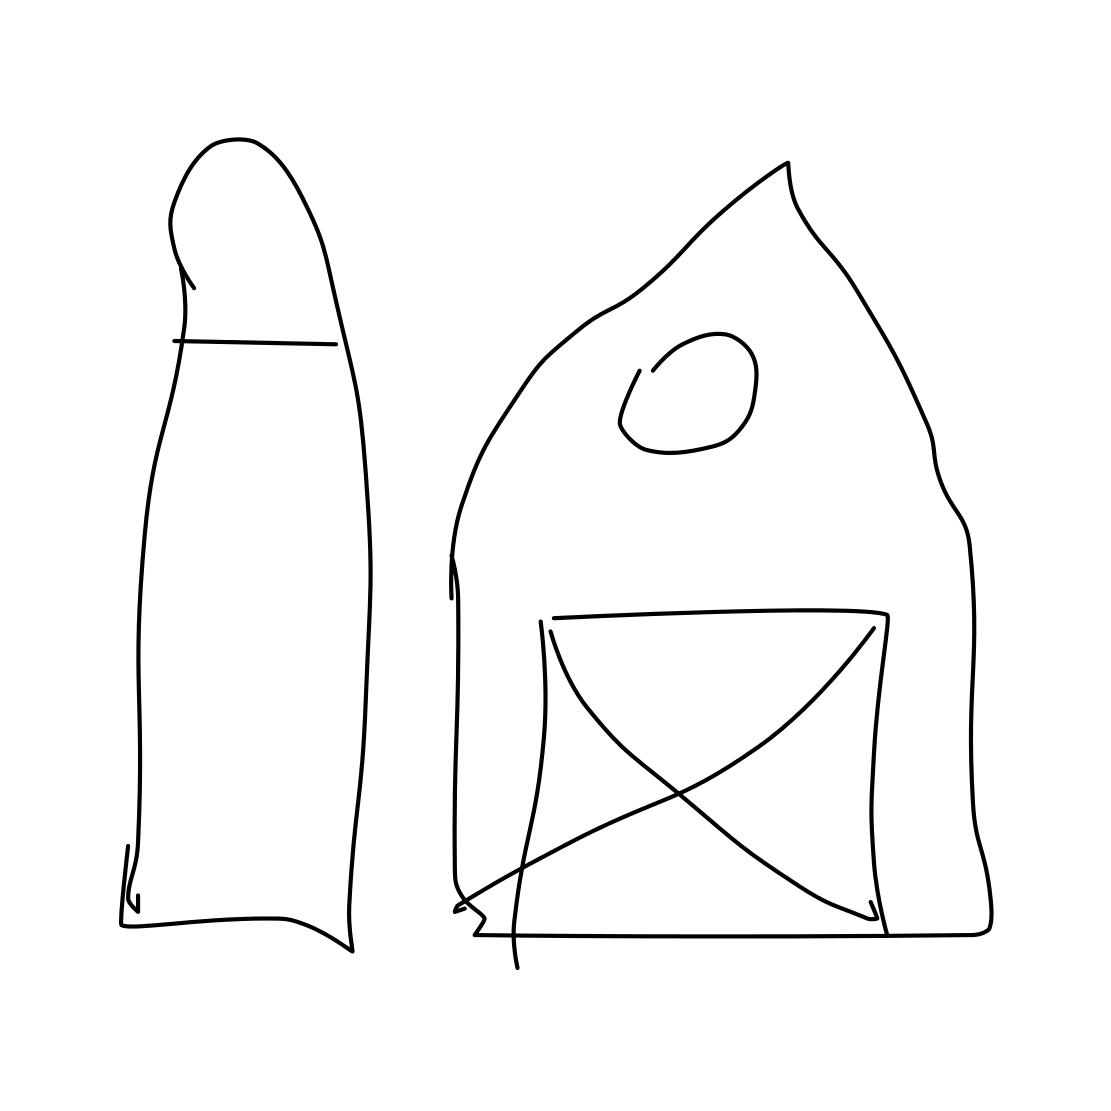House: (400, 154, 1019, 966)
